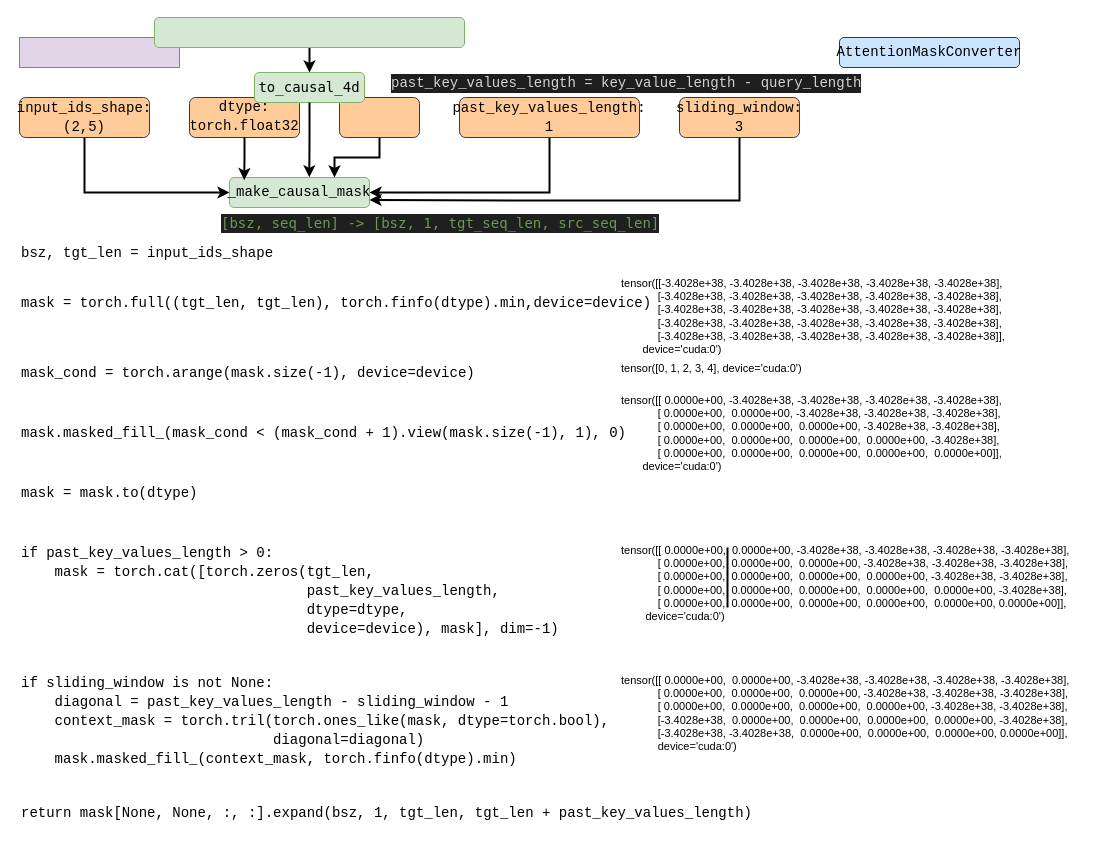
The diagram is 1096 pixels wide and 855 high, and some of its shapes have lost their labels. The centre of each missing label's shape, as x and y in pixels:
_prepare_4d_causal_attention_mask: [309,32]
device: 0: [379,117]
Sliding Windows Attention: [99,52]
